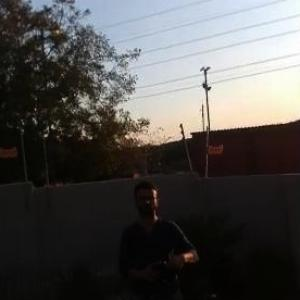follow: (112, 166, 203, 299)
